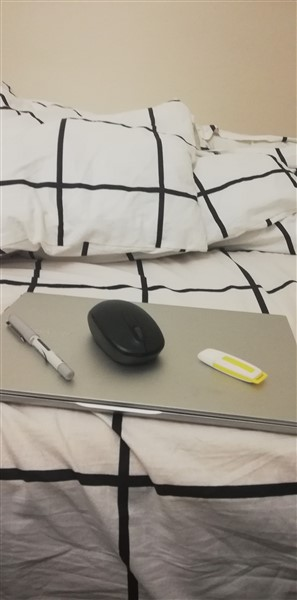flash disk: (196, 344, 270, 395)
laptop: (2, 280, 297, 431)
mouse: (87, 294, 168, 370)
pilot kalem: (6, 313, 76, 388)
